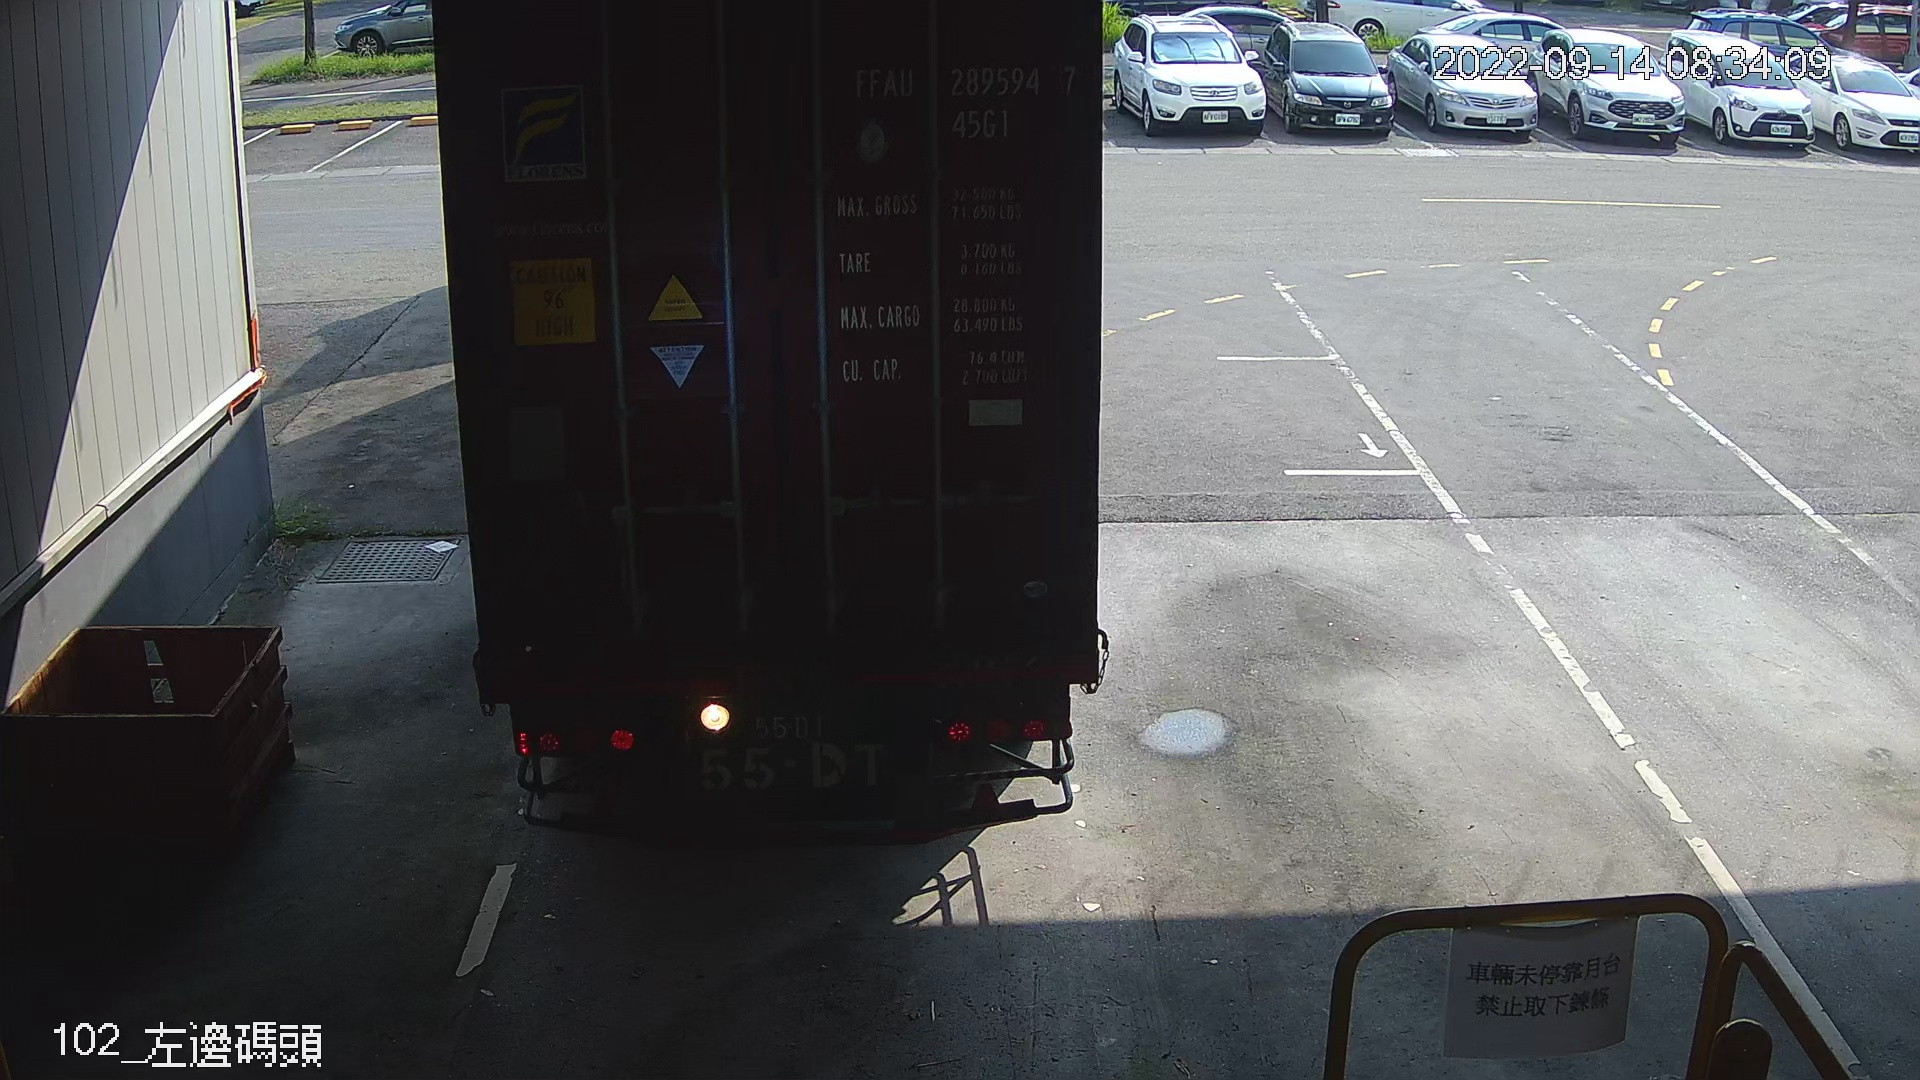container: (845, 55, 1085, 146)
